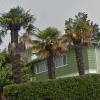Palm tree: (3, 2, 86, 71)
